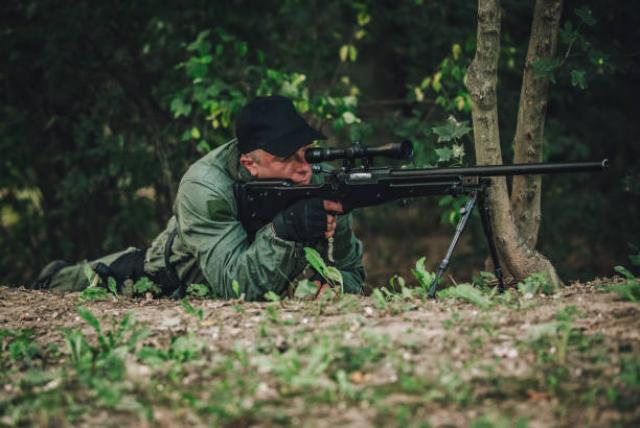other: (45, 96, 362, 285)
